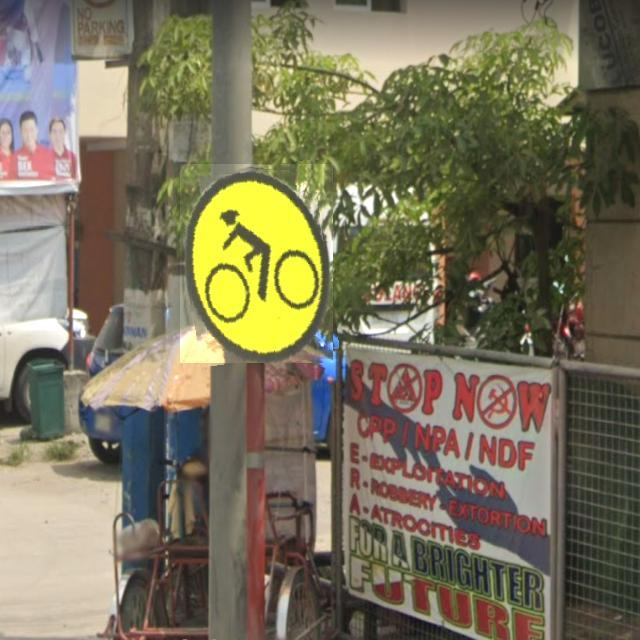bike lane: (180, 164, 333, 363)
